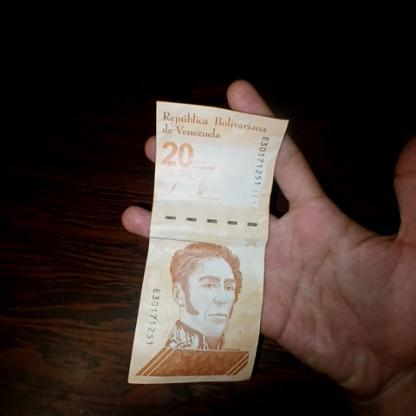twenty-front-vef: (128, 100, 286, 386)
